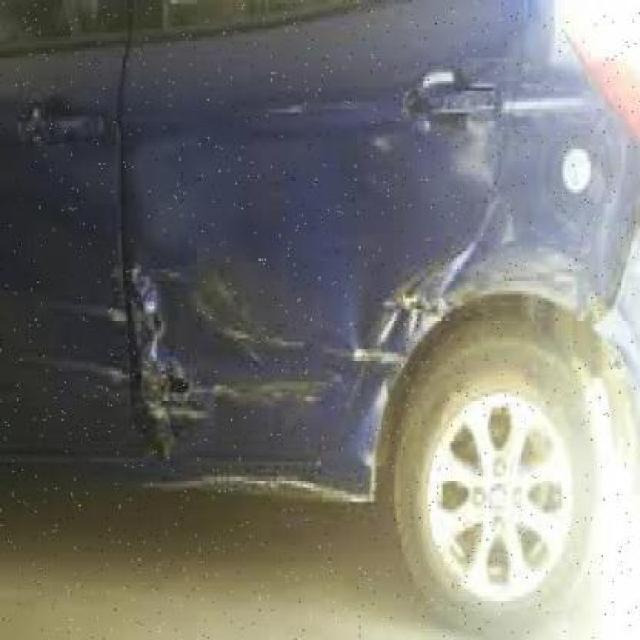doorouter-dent: (131, 23, 435, 463), (0, 51, 126, 463)
quaterpanel-dent: (475, 51, 623, 389)
